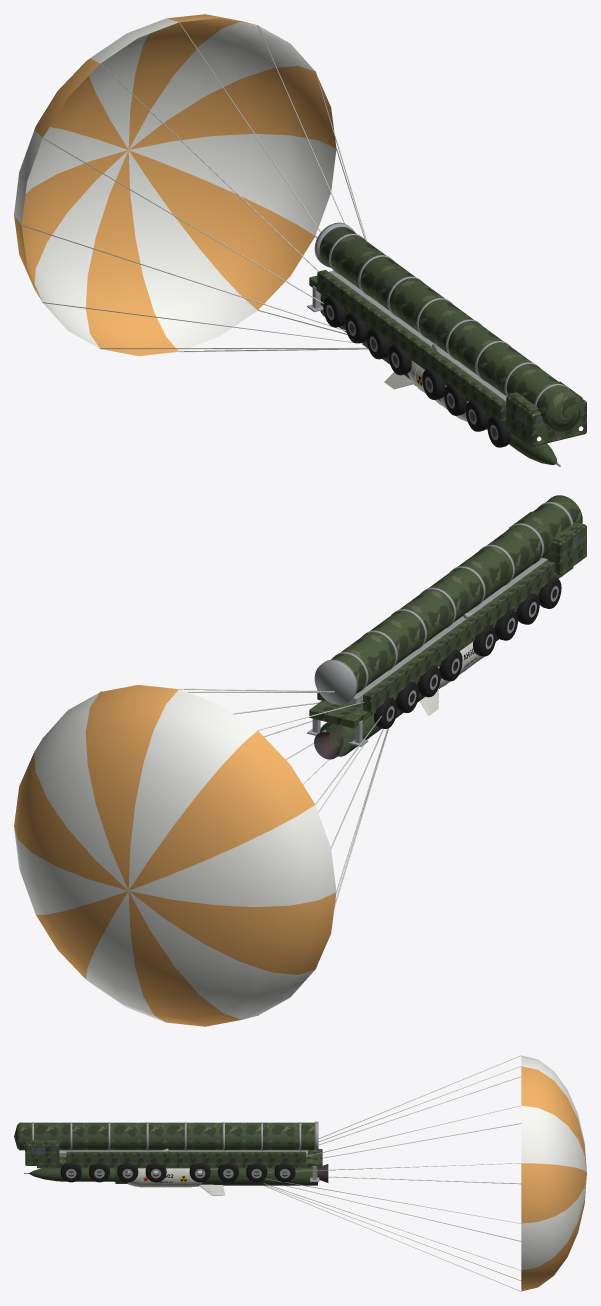
The model's file is nukes.glb.
3 renders of one model, top to bottom at view 1: azimuth 30°, elevation 25°; view 2: azimuth 150°, elevation 25°; view 3: azimuth 270°, elevation 25°, orthographic. The views are drawn at different scales.
Visible parts, largest first — view 1: AN602_chute_geo, YARSTEL_erector_geo, YARSTEL_geo, YARSTEL_cap_geo, AN602_geo, YARS_bus_geo; view 2: AN602_chute_geo, YARSTEL_erector_geo, YARSTEL_geo, YARS_S1_geo, AN602_geo; view 3: AN602_chute_geo, YARSTEL_erector_geo, YARSTEL_geo, YARS_S1_geo, AN602_geo, YARS_bus_geo.
Part boxes in pixels (box(x1,y1,x2,y2)): AN602_chute_geo: box(14, 14, 368, 355); YARSTEL_erector_geo: box(314, 222, 572, 426); YARSTEL_geo: box(307, 270, 586, 447); YARSTEL_cap_geo: box(544, 391, 582, 432); AN602_geo: box(384, 360, 468, 421); YARS_bus_geo: box(515, 437, 560, 466); AN602_chute_geo: box(14, 685, 388, 1026); YARSTEL_erector_geo: box(314, 496, 581, 704); YARSTEL_geo: box(307, 511, 586, 746); YARS_S1_geo: box(314, 678, 441, 759); AN602_geo: box(419, 642, 483, 715); AN602_chute_geo: box(263, 1055, 586, 1291); YARSTEL_erector_geo: box(20, 1121, 318, 1156); YARSTEL_geo: box(24, 1140, 322, 1182); YARS_S1_geo: box(202, 1164, 328, 1185); AN602_geo: box(127, 1168, 225, 1195); YARS_bus_geo: box(24, 1168, 66, 1181).
Bounding box in the file's own units: 18.05 × 18.06 × 43.55.
Materials: 14 (7 with a texture image).
